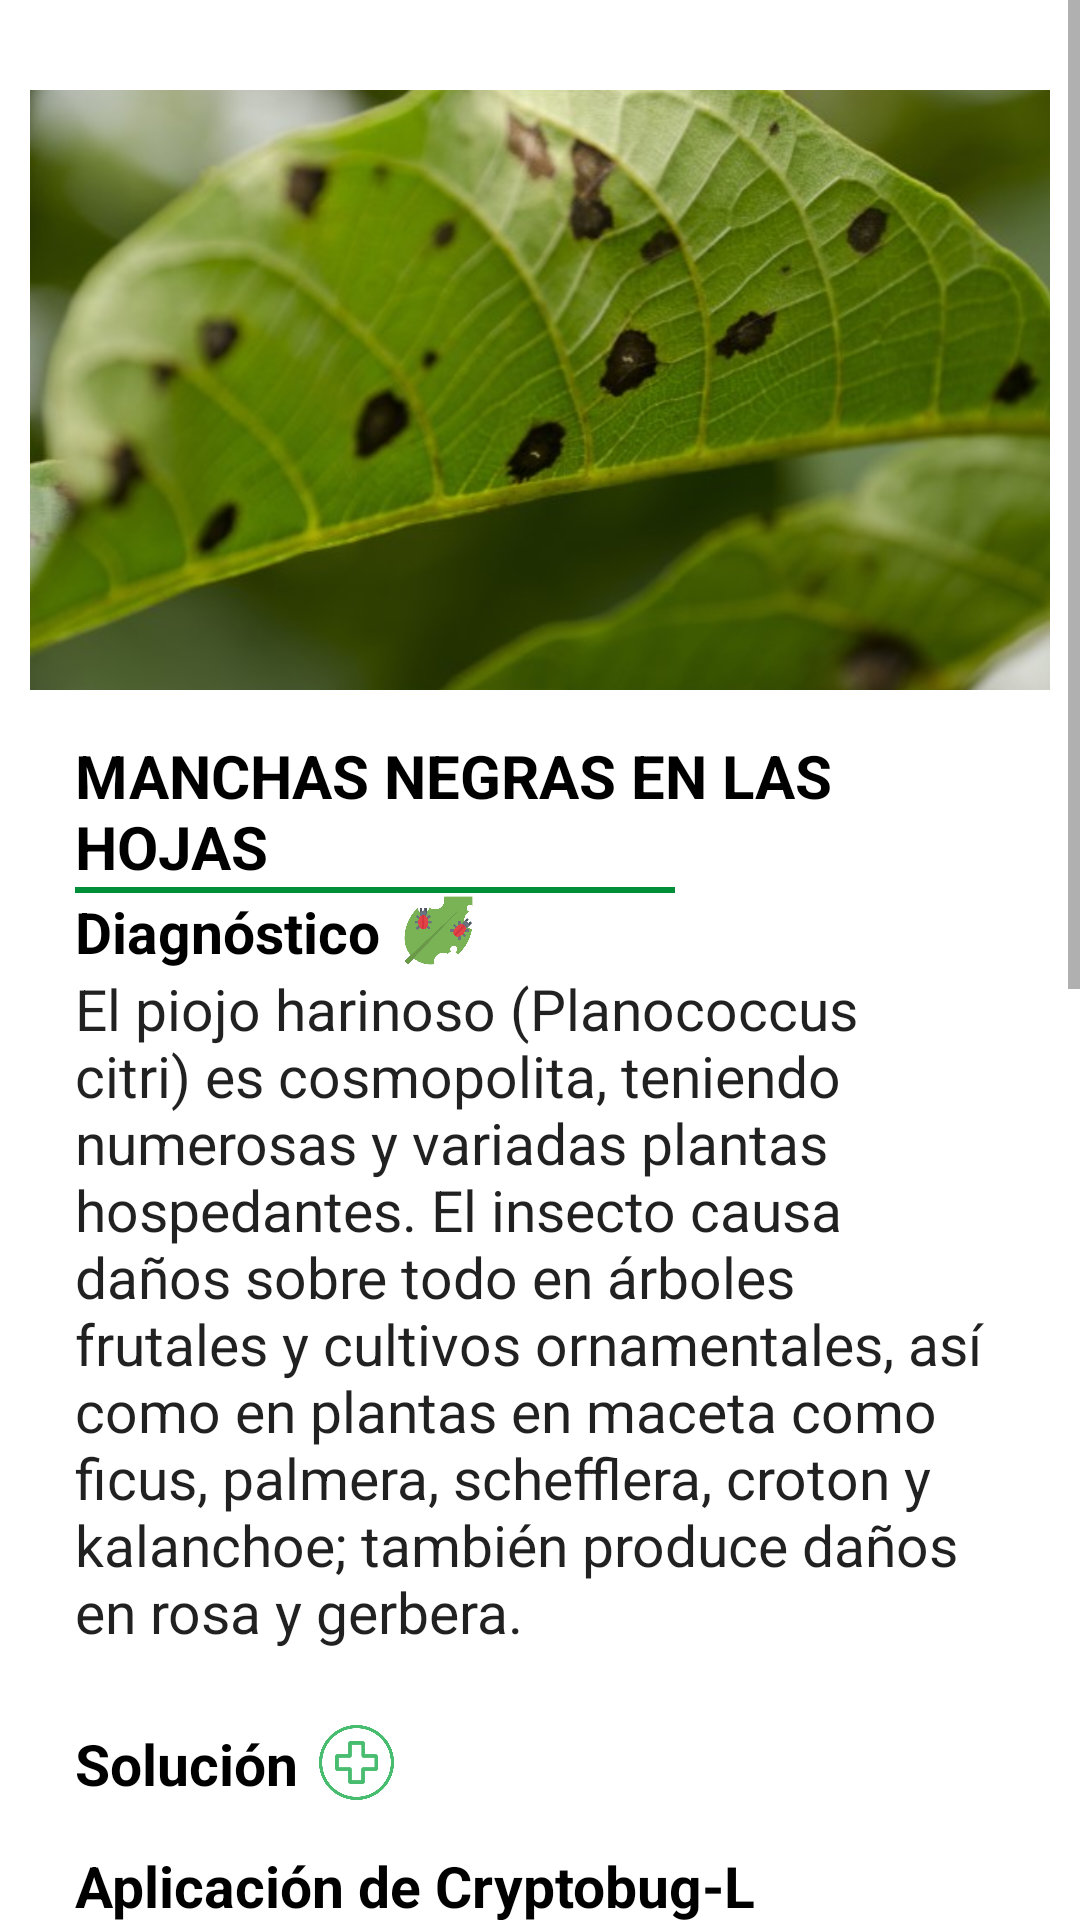

Named icons in this screenshot (1080px x 1920px) and their centers, point (x, y):
hospital: point (356, 1762)
plagas: point (438, 930)
